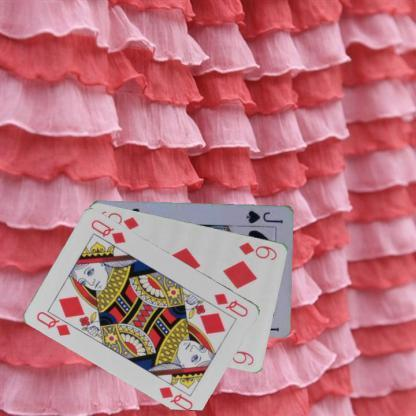6d: (236, 239, 278, 261)
Js: (244, 207, 284, 225)
Qd: (34, 308, 79, 338), (212, 289, 250, 318)
